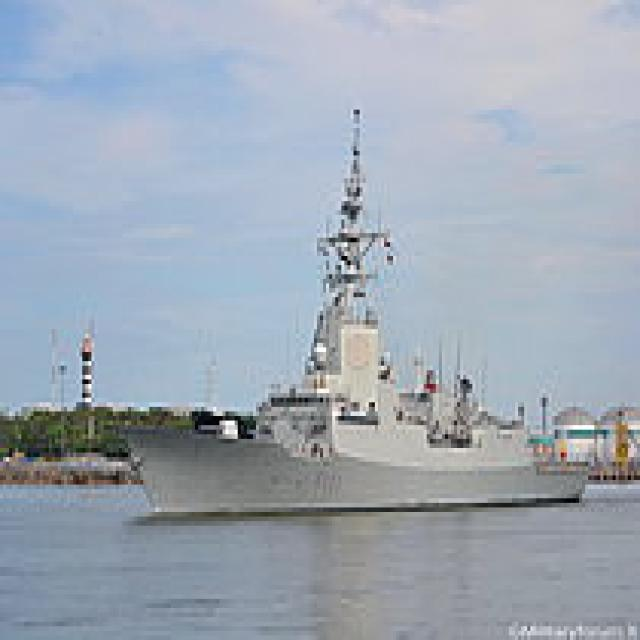Warship: (119, 96, 585, 517)
